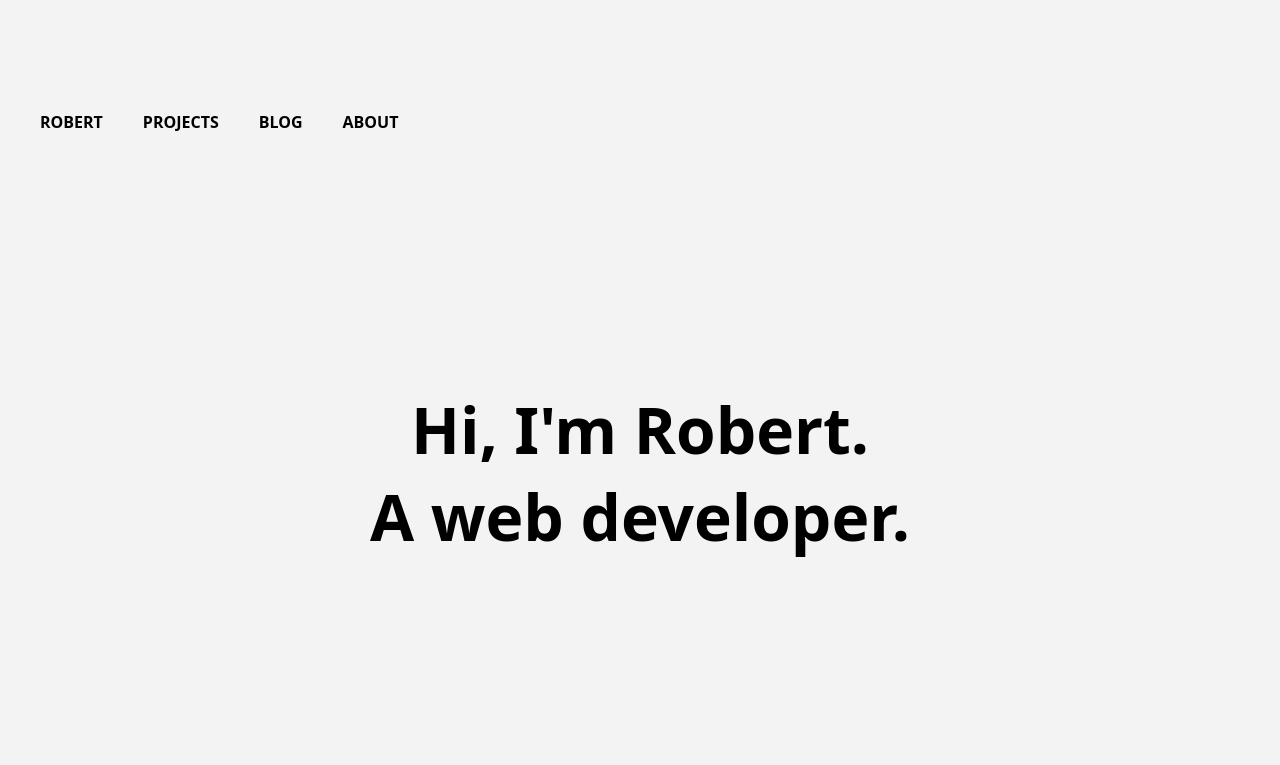
Router › project page should load from home page
The image size is (1280, 765).
Click the link "Projects": (181, 123) [143,111,219,135]
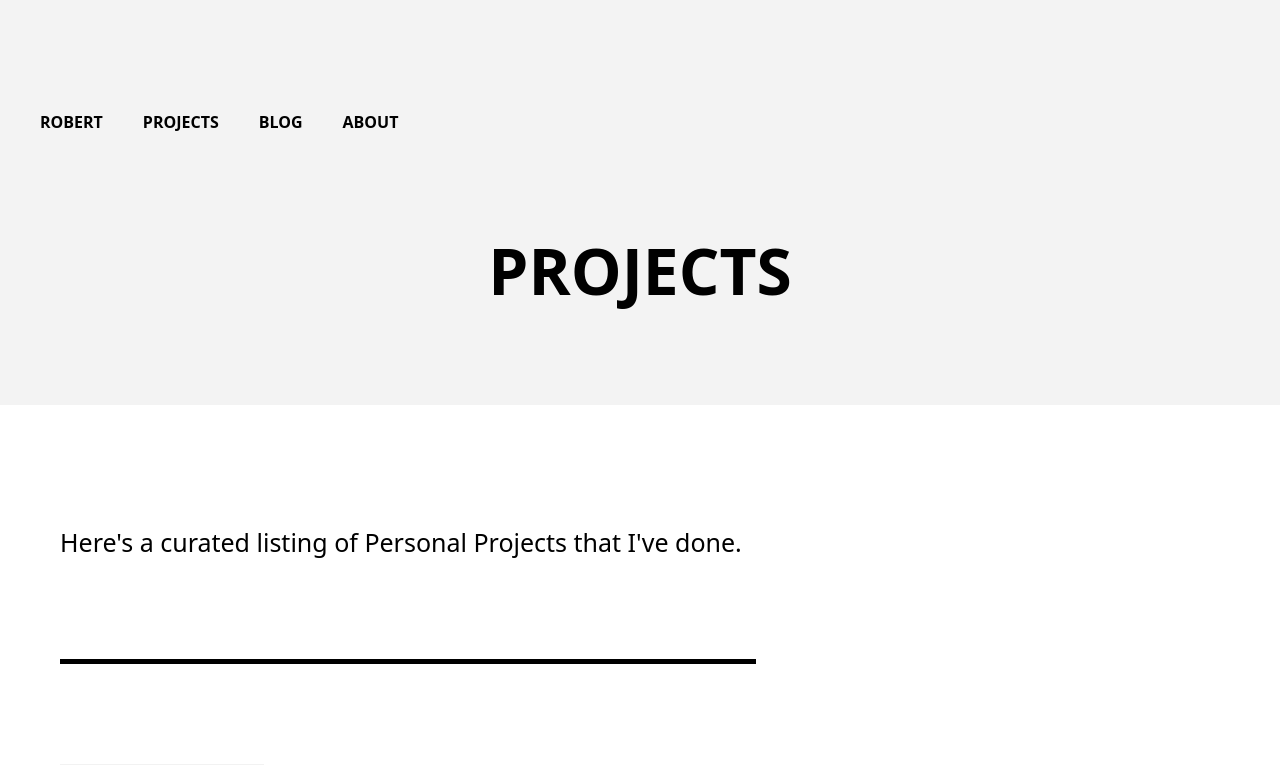
expect the text "Here's a curated listing of Personal Projects that I've done." is shown: met, box [60,425,756,664]
